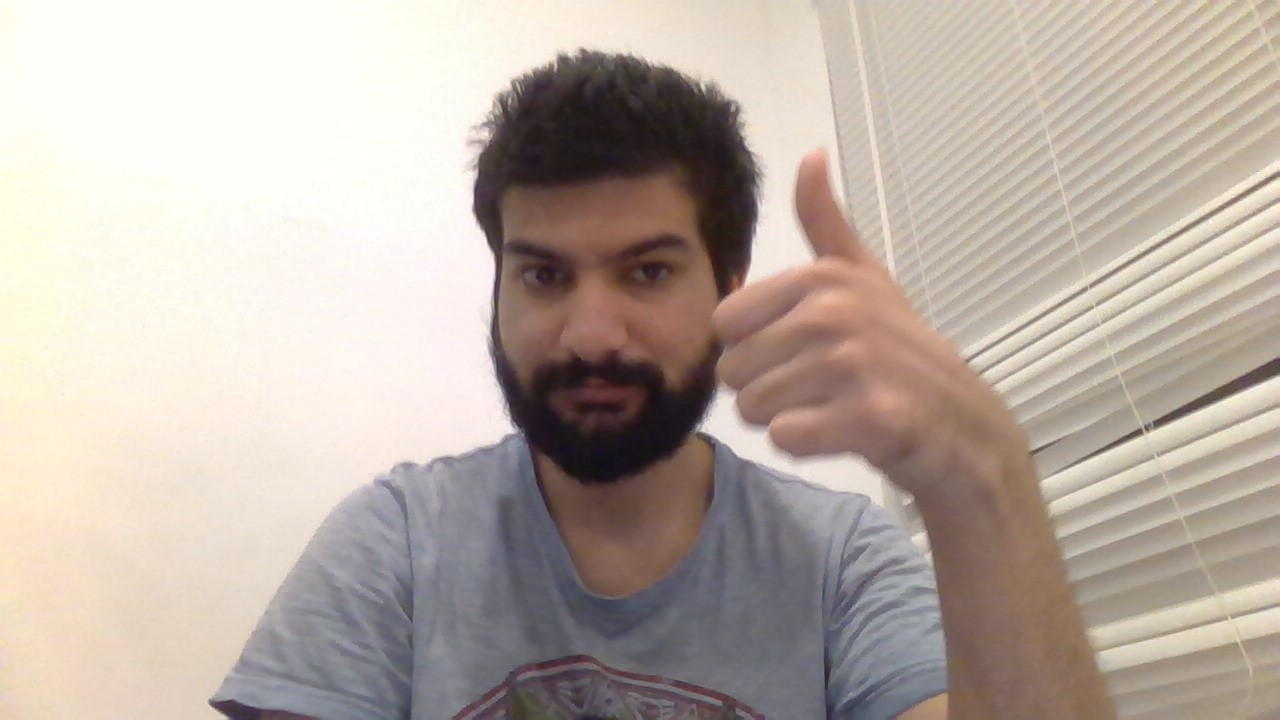up: (712, 135, 916, 469)
